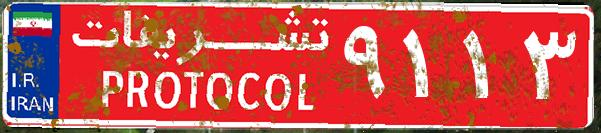1: (400, 20, 460, 115), (460, 20, 520, 115)
3: (520, 20, 580, 115)
9: (340, 20, 400, 115)
تشریفات: (60, 8, 340, 125)
